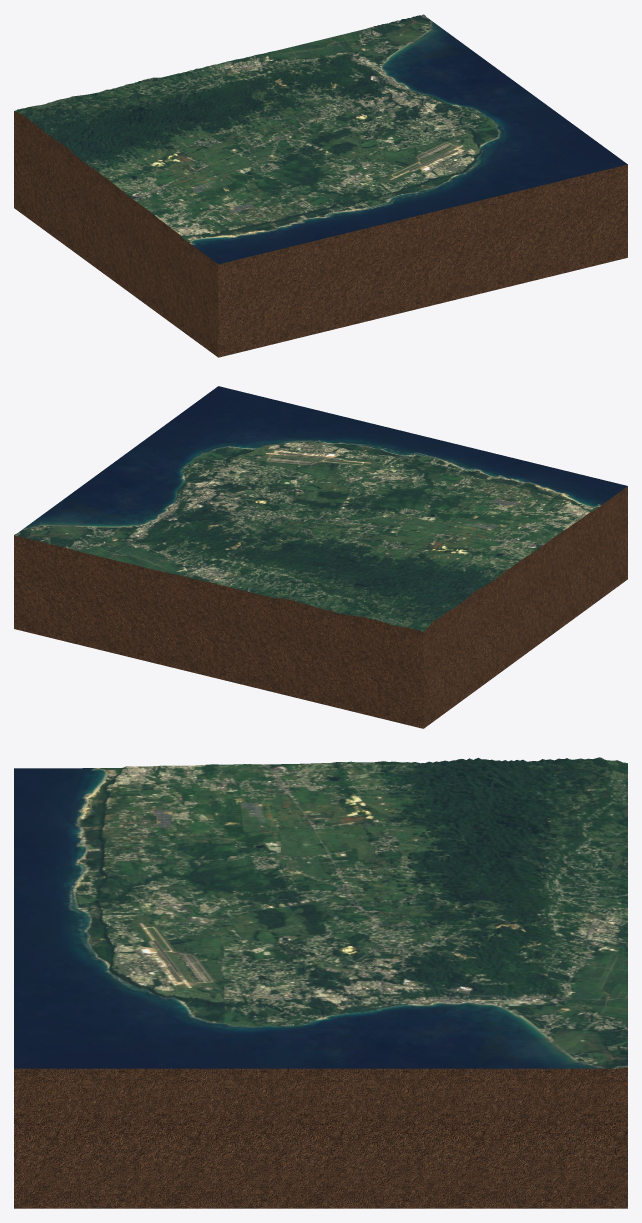
File: aguadilla-map3d.glb
3 views of the same model, one above another, from view 1: azimuth 30°, elevation 25°; view 2: azimuth 150°, elevation 25°; view 3: azimuth 270°, elevation 25° (orthographic). The views are drawn at different scales.
Visible parts, largest first — view 1: tinMesh, side_north_tin, side_east_tin; view 2: tinMesh, side_south_tin, side_east_tin; view 3: tinMesh, side_west_tin.
Boxes of the visible parts, <box> form: tinMesh: <box>14,14,627,264</box>; side_north_tin: <box>218,164,627,357</box>; side_east_tin: <box>14,111,218,357</box>; tinMesh: <box>14,386,627,631</box>; side_south_tin: <box>14,535,423,728</box>; side_east_tin: <box>423,486,627,728</box>; tinMesh: <box>14,757,627,1068</box>; side_west_tin: <box>14,1067,627,1208</box>.
Size of the model in its own units: 80.04 by 18.83 by 69.18.
2 materials, 2 textured.
